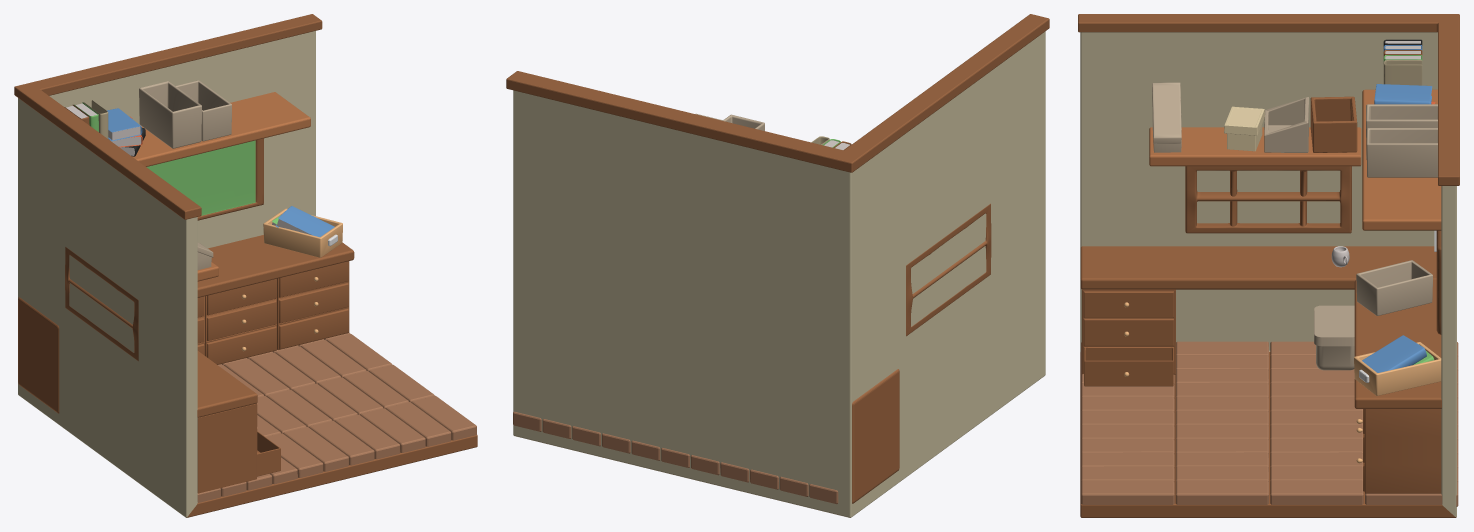
The model's file is bedroom-model.glb.
3 views of the same model, side by side, from view 1: azimuth 30°, elevation 25°; view 2: azimuth 150°, elevation 25°; view 3: azimuth 270°, elevation 25° (orthographic). The views are drawn at different scales.
Parts seen in each view (by area): view 1: Room Base, Floor, Dolap, Plane.041, Pano, Kucuk_dolap, Dolap_ustu, Raf_sag, Dolap_sag2, Cube.017, Masa, Cube.020 (+4 smaller); view 2: Room Base, Plane.041, Dolap_sag2, Floor, Pencere; view 3: Room Base, Floor, Masa, Plane.041, Kucuk_dolap, Dolap, Pencere, Dolap_ustu, Raf_sag, Raf_sag.001, Cube.018, Cube.035 (+11 smaller).
Boxes of the visible parts, x1,y1,x2,y2 form: Room Base: [18, 31, 477, 517]; Floor: [197, 332, 476, 502]; Dolap: [197, 261, 349, 364]; Plane.041: [14, 14, 322, 219]; Pano: [146, 138, 263, 220]; Kucuk_dolap: [197, 403, 280, 493]; Dolap_ustu: [197, 235, 354, 297]; Raf_sag: [132, 92, 310, 166]; Dolap_sag2: [18, 297, 59, 413]; Cube.017: [139, 81, 201, 148]; Masa: [197, 351, 257, 417]; Cube.020: [263, 208, 342, 257]; Room Base: [513, 31, 1045, 517]; Plane.041: [506, 14, 1049, 172]; Dolap_sag2: [852, 369, 899, 503]; Floor: [513, 411, 838, 504]; Pencere: [906, 203, 991, 336]; Room Base: [1080, 32, 1456, 517]; Floor: [1081, 341, 1458, 506]; Masa: [1080, 246, 1436, 289]; Plane.041: [1078, 14, 1459, 185]; Kucuk_dolap: [1082, 289, 1175, 386]; Dolap: [1356, 409, 1441, 493]; Pencere: [1185, 166, 1351, 233]; Dolap_ustu: [1354, 279, 1441, 408]; Raf_sag: [1362, 89, 1441, 230]; Raf_sag.001: [1149, 127, 1361, 166]; Cube.018: [1366, 128, 1437, 177]; Cube.035: [1356, 260, 1432, 315].
Size of the model in its own units: 4.96 by 4.9 by 4.92.
